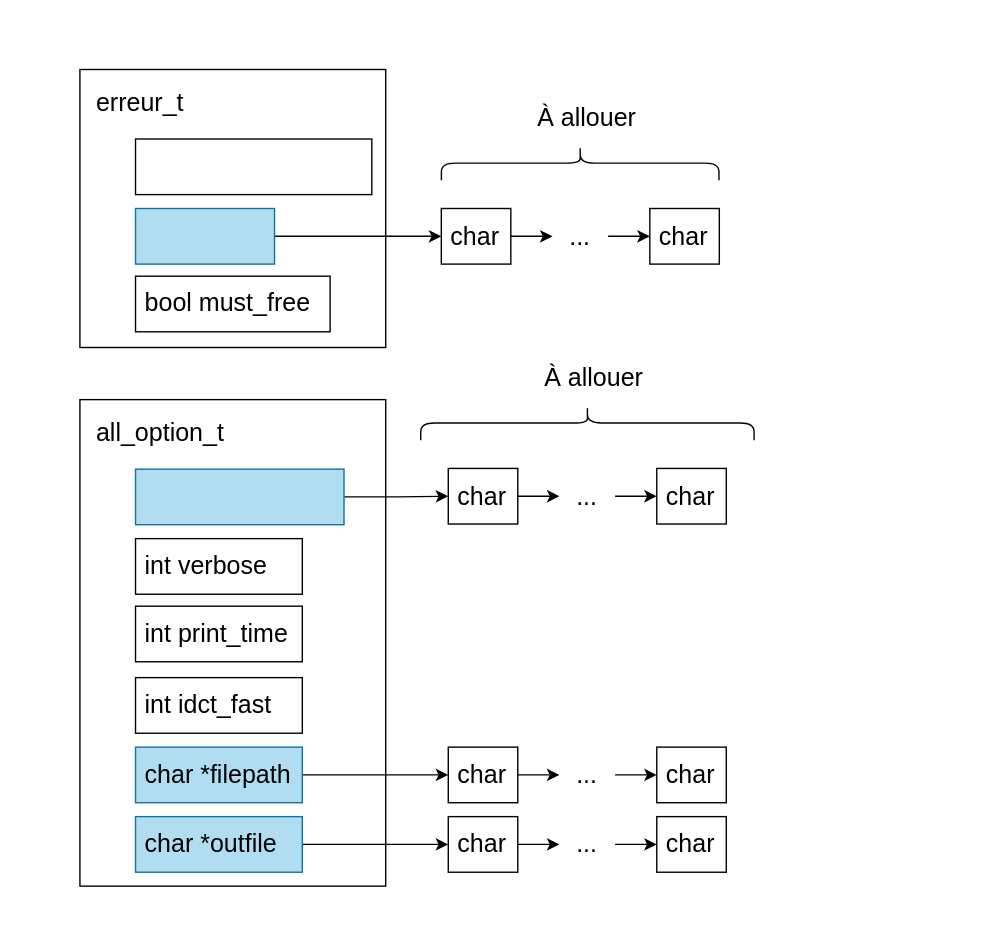
This 992x937 diagram has some shape labels left out. The box of each missing label's shape, as (x1, y1, x2, y2) in pixels:
char *com: (134, 207, 275, 264)
char *execname: (134, 468, 344, 525)
erreur_code_t code: (134, 138, 372, 195)
